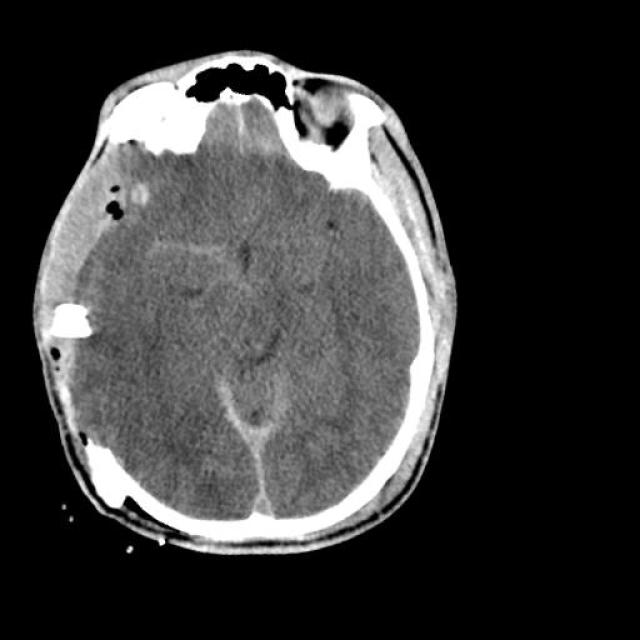Subdural: (188, 370, 333, 546)
